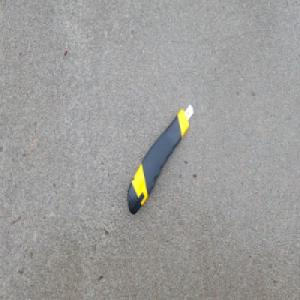Cutter: (127, 103, 194, 216)
